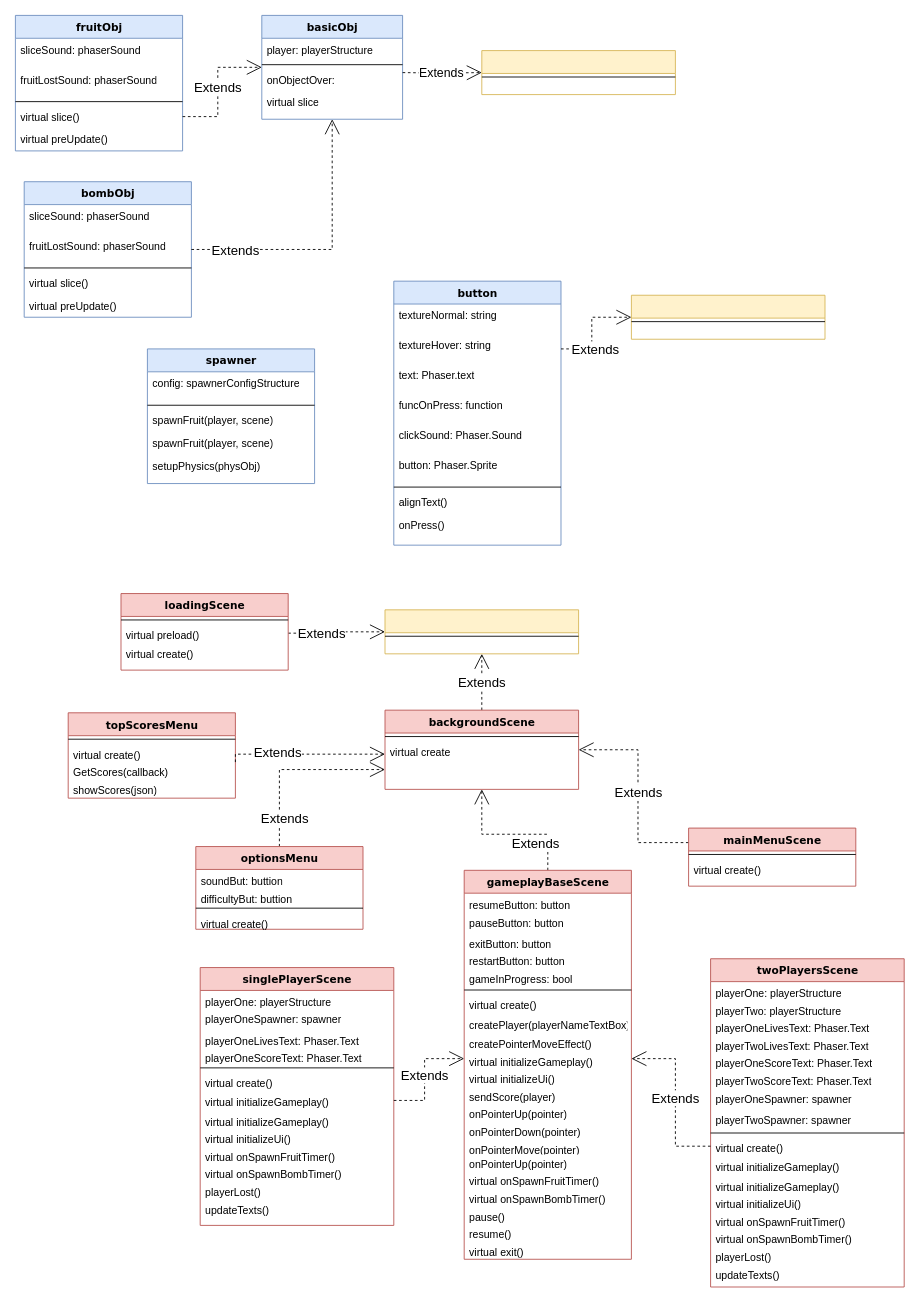
Image size: 920x1302. Some labels were removed from this diagram. The shapes that lost their labels are listed below. From the top down, each one's centre as x and y in pixels, then its label:
point (578, 72): Phaser . Physics . Arcade . Sprite
point (728, 316): Phaser . GameObjects . Container
point (481, 631): Phaser . Scene
